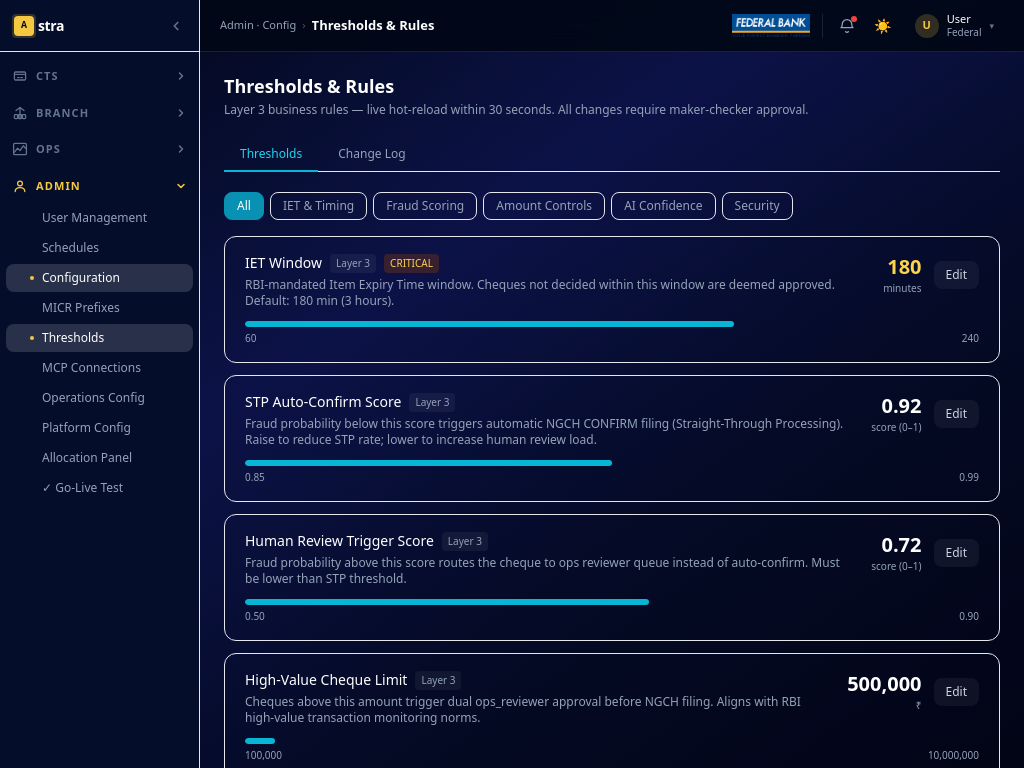
CTSThresholds › edit modal Cancel closes it
Step 1. Click the button "Edit" next to "minutes" → (956,274), box [934,260,979,288]
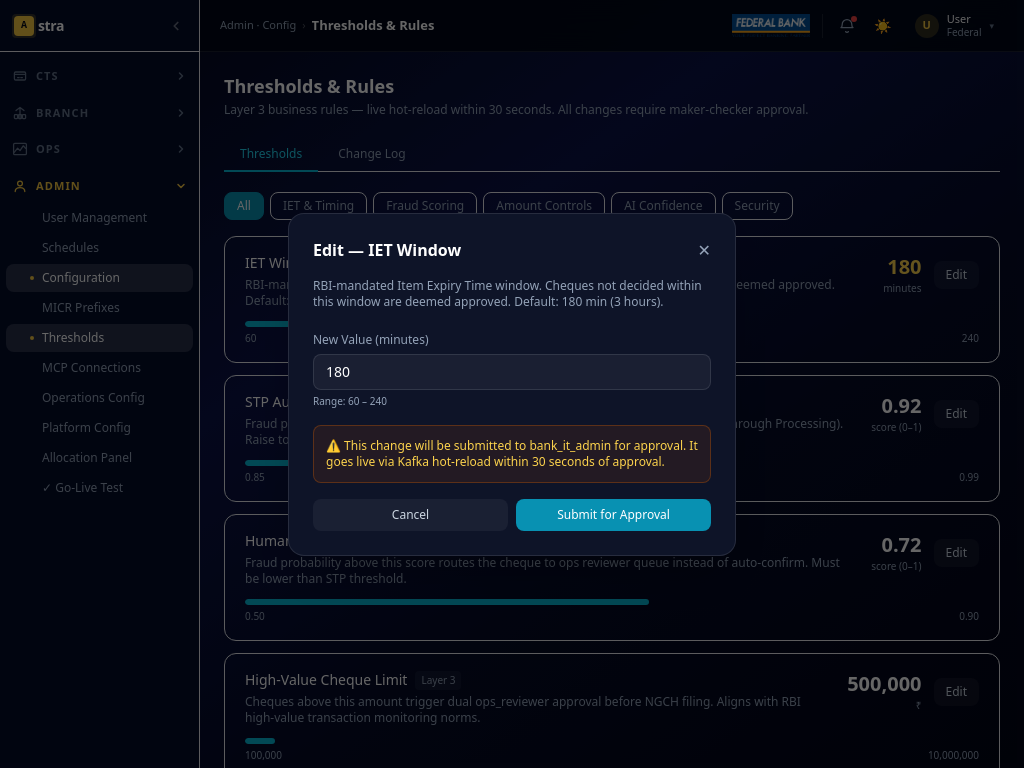
Step 2. Click the button "Cancel" → (410,514), box [313,498,508,530]
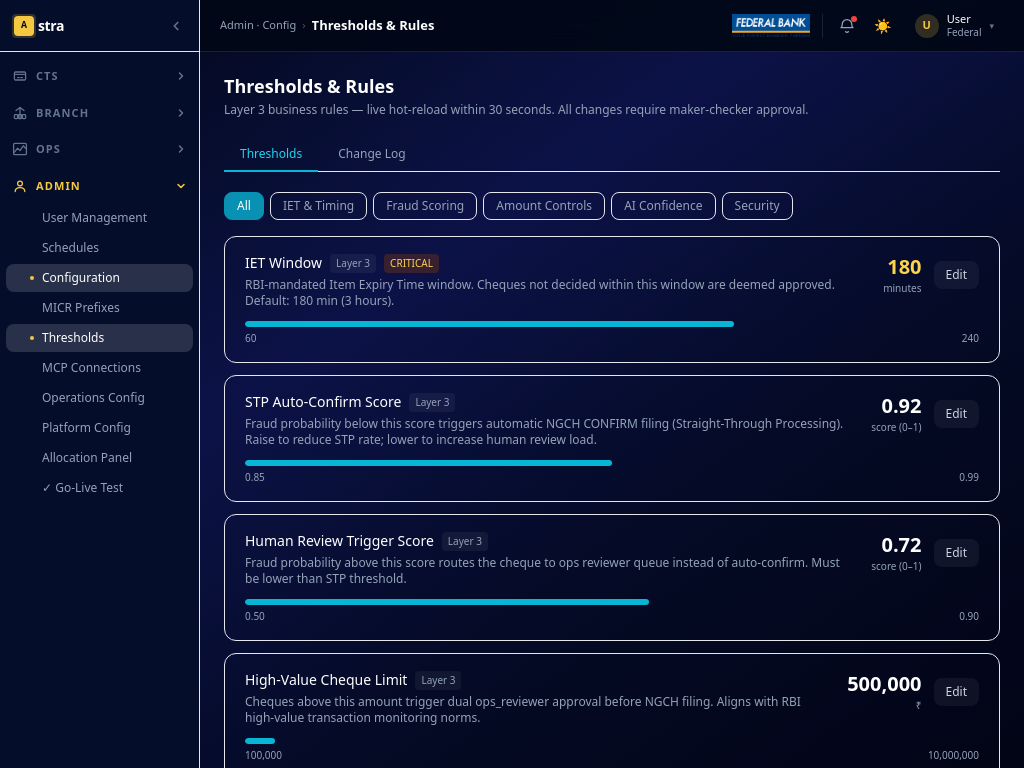
Result: the button "Submit for Approval" is gone
